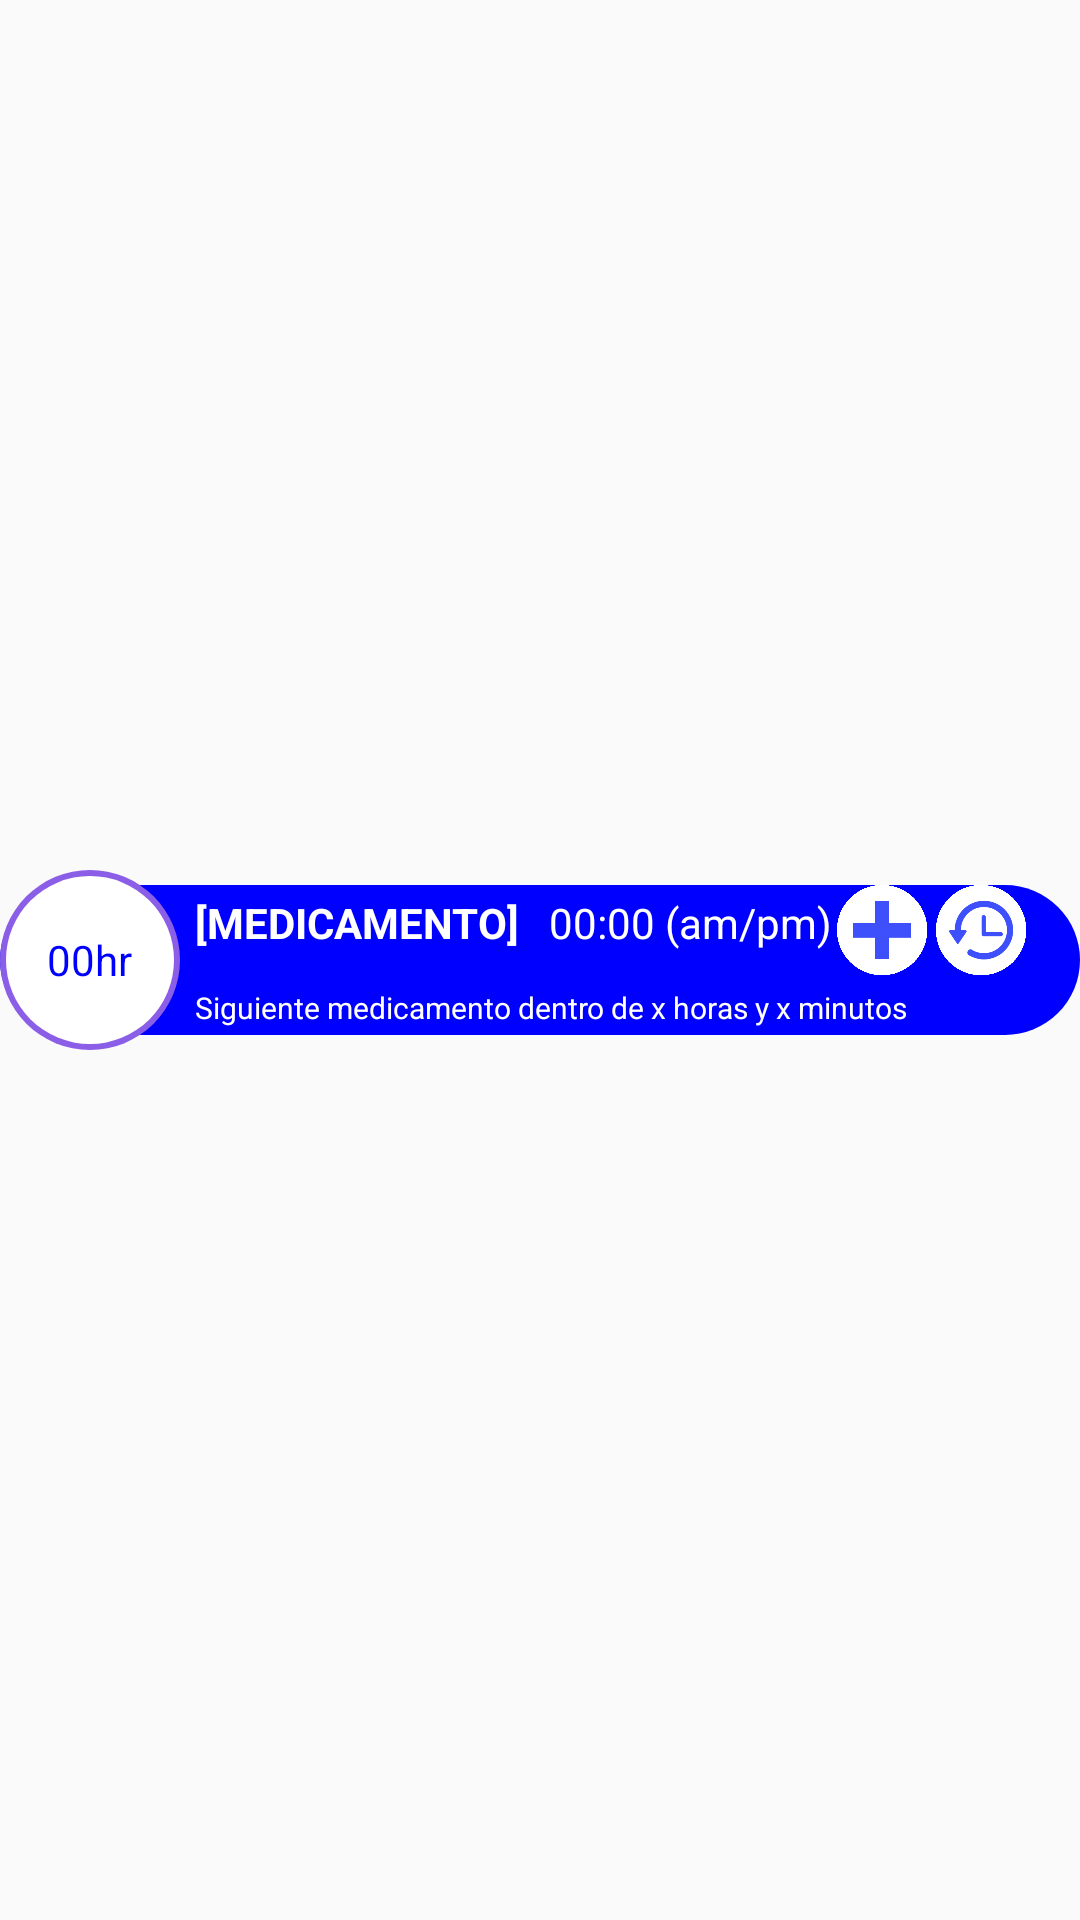

Icon bounding boxes for this 1080px×1920px phone screenshot, format (x1, y1, x2, y2):
historial: (936, 885, 1026, 975)
sumar: (837, 885, 927, 975)
